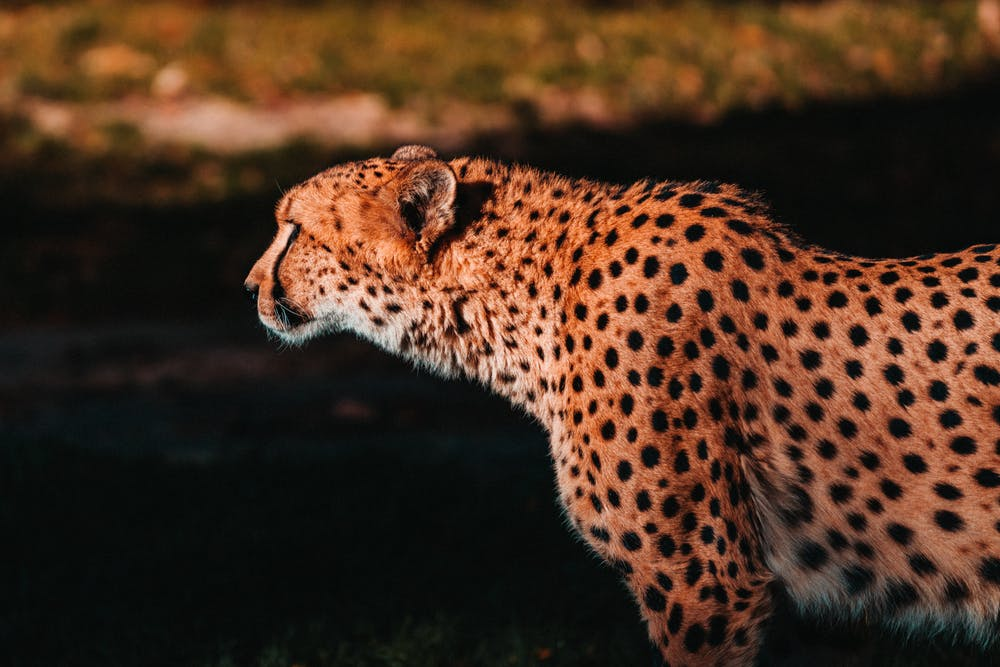cheetah: (203, 137, 540, 372)
